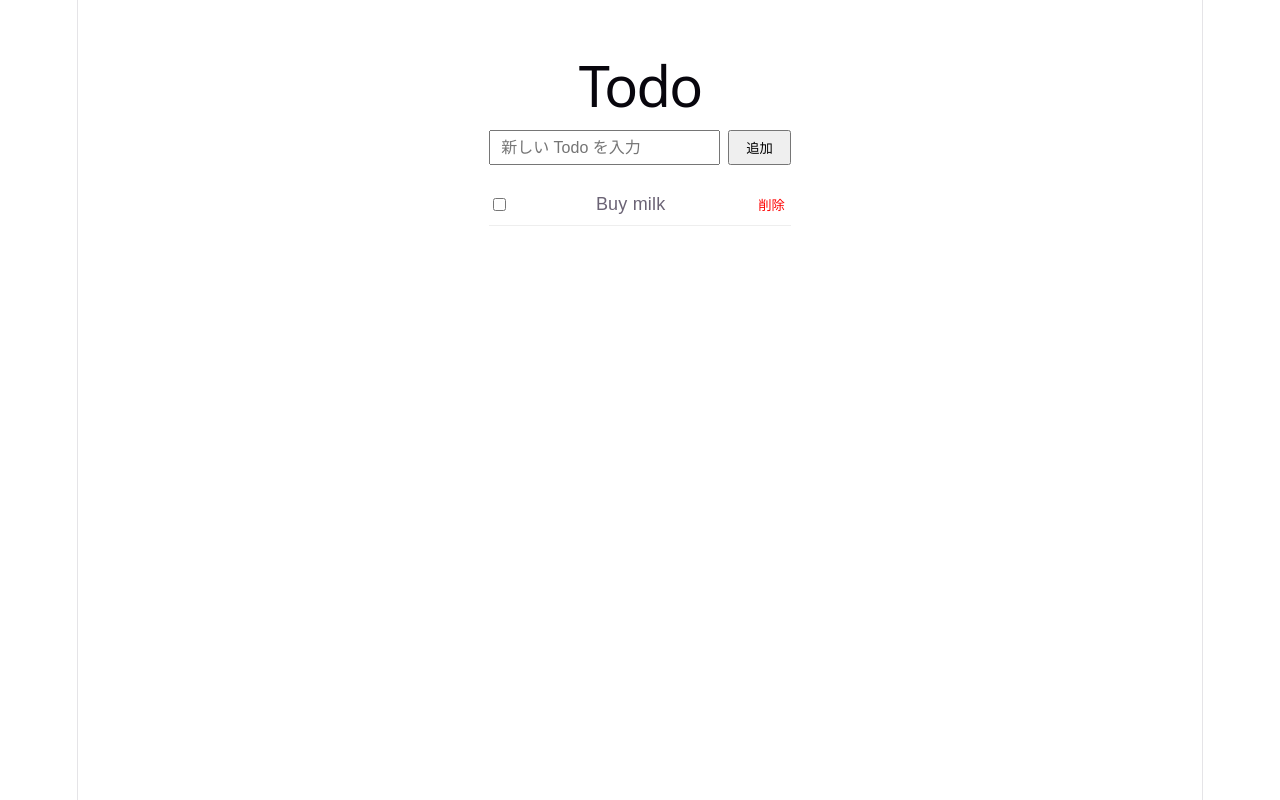
Test: App › deletes a todo
expect the text "Buy milk" is shown: met, box [596,194,665,214]
Click the button "削除" at {"x": 772, "y": 204}, box [752,194,791,215]
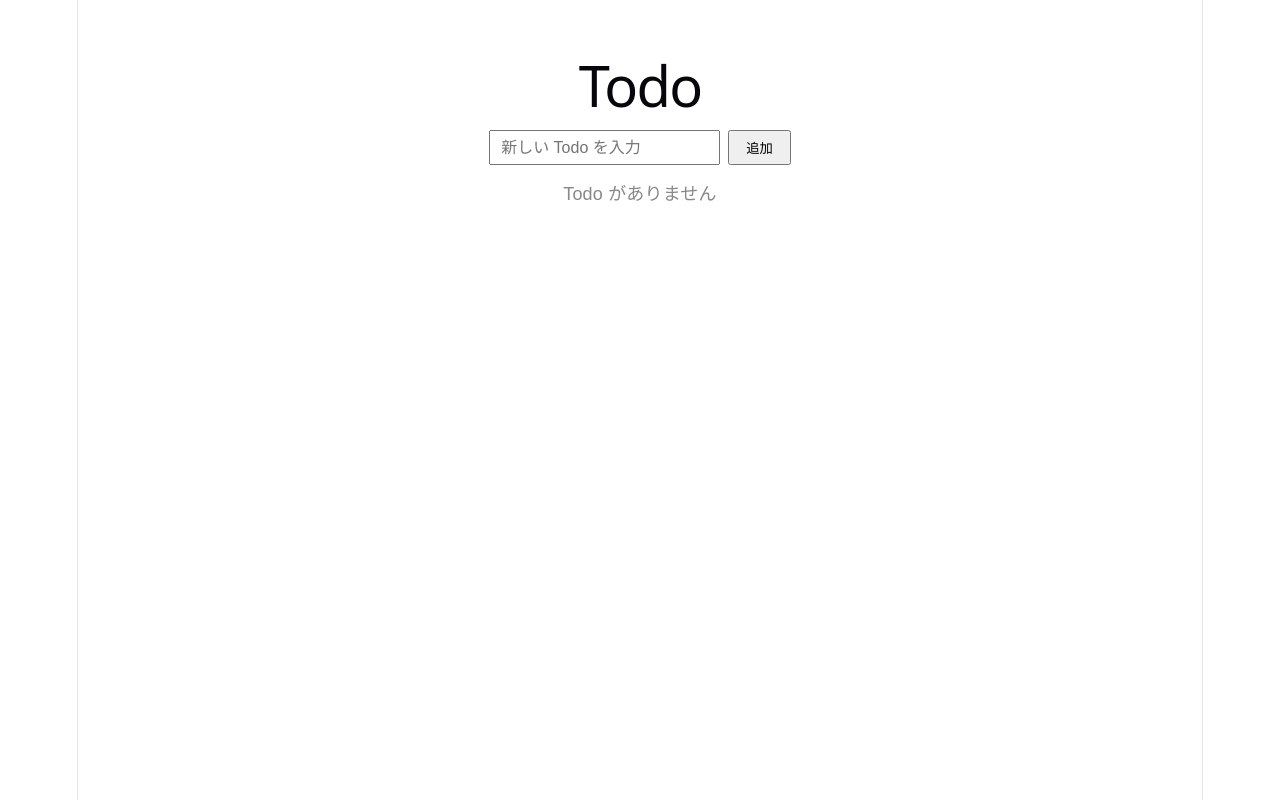
expect the text "Buy milk" is gone: met
